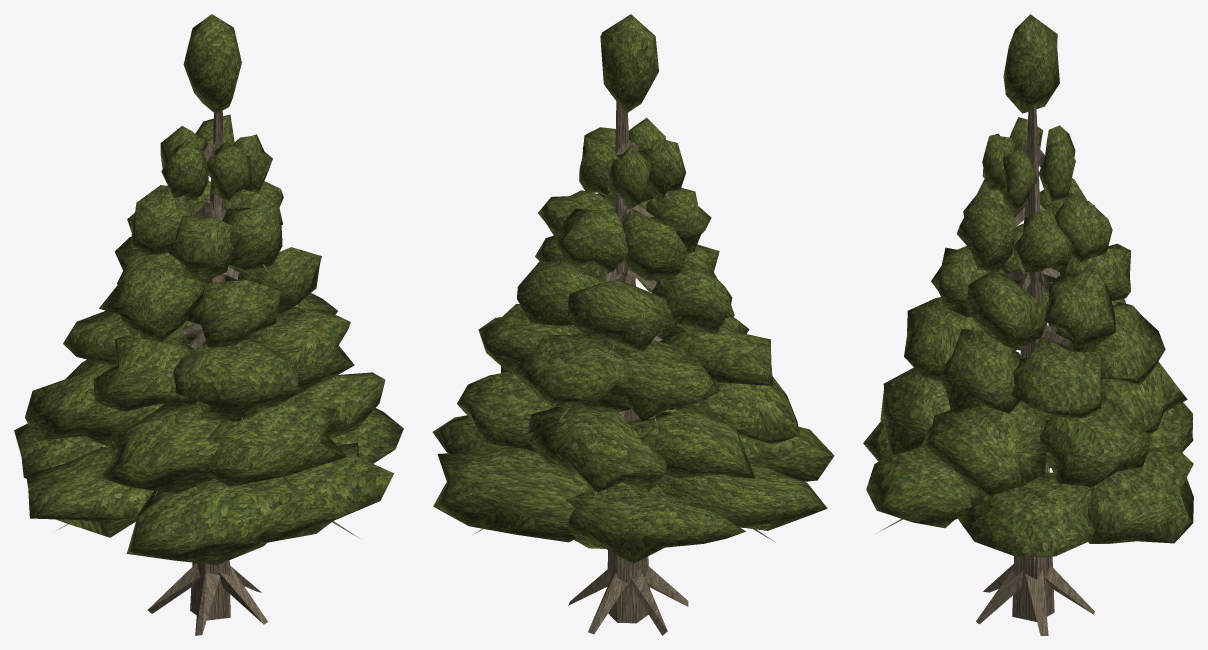
Rendered from tree_pine_b.gltf.
3 renders of one model, left to right at view 1: azimuth 30°, elevation 25°; view 2: azimuth 150°, elevation 25°; view 3: azimuth 270°, elevation 25°, orthographic.
Visible parts, largest first — view 1: tree_pine_b_game; view 2: tree_pine_b_game; view 3: tree_pine_b_game.
Boxes of the visible parts, bbox=[...] form: tree_pine_b_game: bbox=[14, 14, 403, 635]; tree_pine_b_game: bbox=[432, 14, 834, 635]; tree_pine_b_game: bbox=[863, 14, 1193, 635].
Bounding box in the file's own units: 0.2946 × 0.4508 × 0.226.
Materials: 2 (2 with a texture image).
